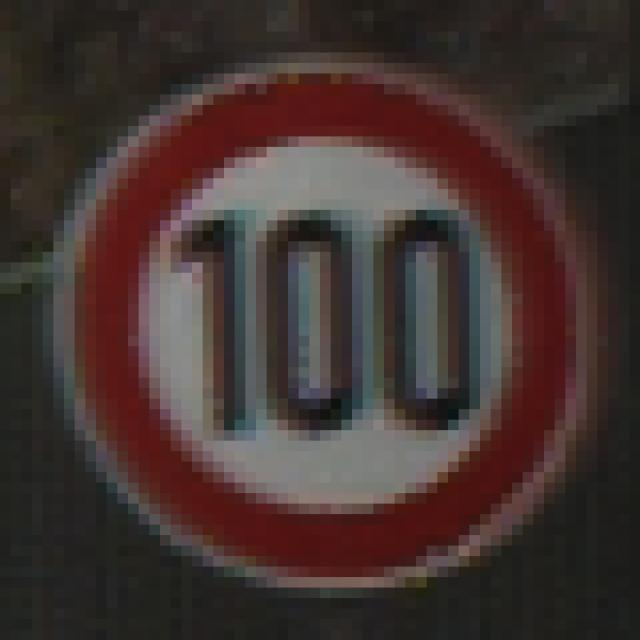speed limit 100: (34, 38, 606, 604)
